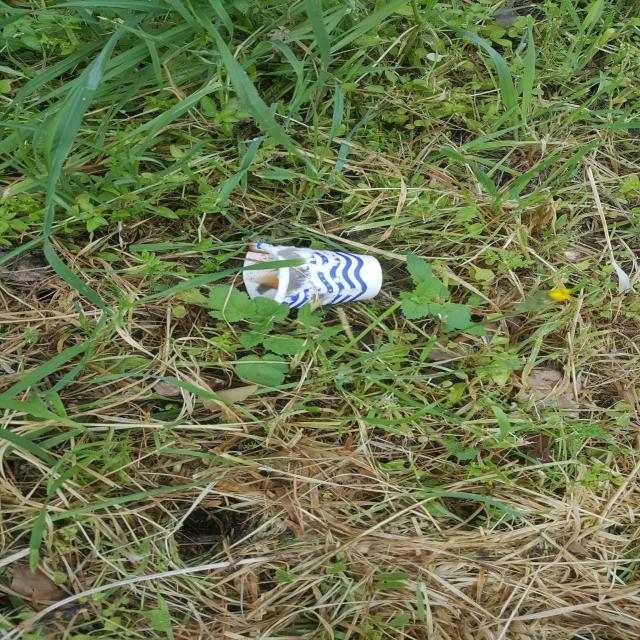litter: (431, 143, 550, 225)
